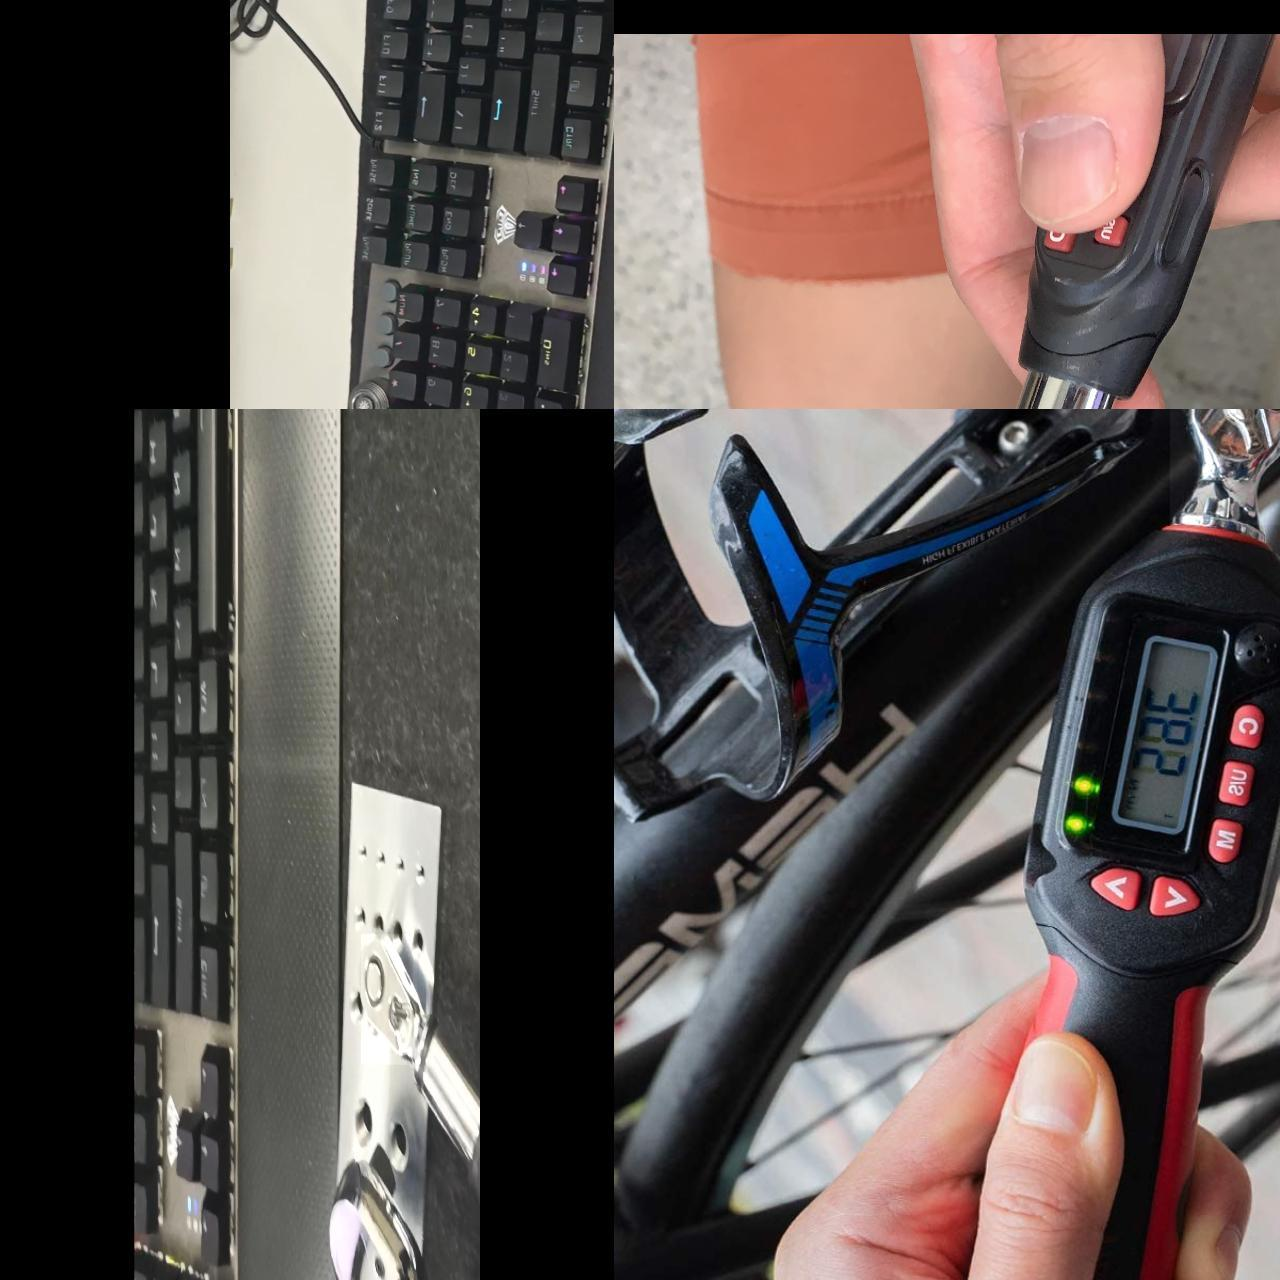Tool: (333, 1153, 464, 1280), (1170, 409, 1280, 524), (361, 933, 417, 1063)
